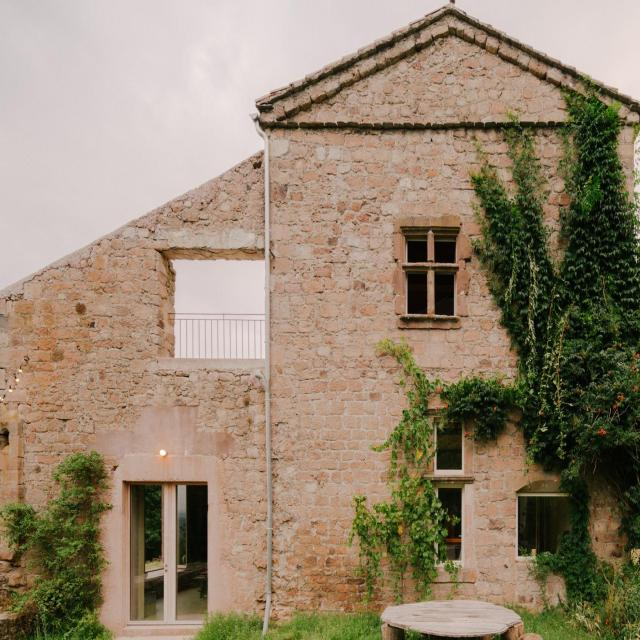door: (124, 483, 210, 631)
railing: (168, 311, 267, 358)
window: (405, 233, 456, 310), (517, 491, 570, 558), (438, 487, 465, 563), (434, 424, 464, 476)
